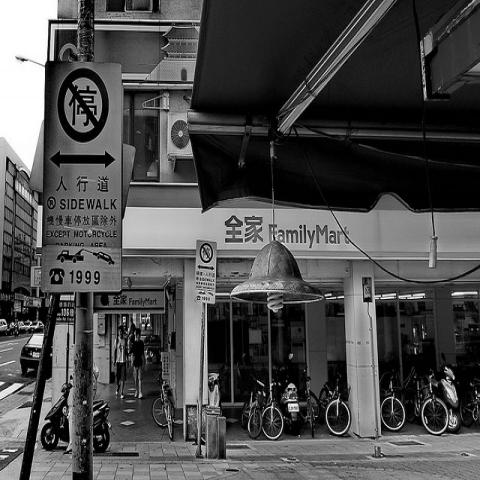car: (18, 332, 45, 374), (30, 320, 46, 332), (0, 319, 9, 335), (20, 321, 33, 331)
motorcycle: (41, 374, 113, 452), (431, 350, 461, 432), (280, 381, 301, 423)
